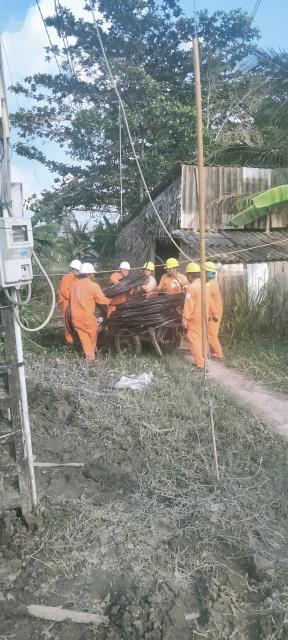helmet: (163, 256, 181, 271), (79, 262, 99, 275), (204, 259, 219, 275), (185, 260, 201, 274), (69, 258, 83, 272), (117, 260, 130, 273), (143, 260, 154, 273)
shoes: (189, 362, 209, 369), (207, 353, 224, 361), (192, 367, 211, 373)
